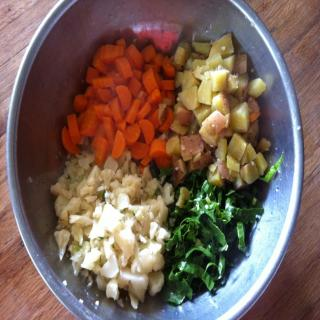Carrot: (62, 39, 175, 168), (110, 129, 128, 159)
